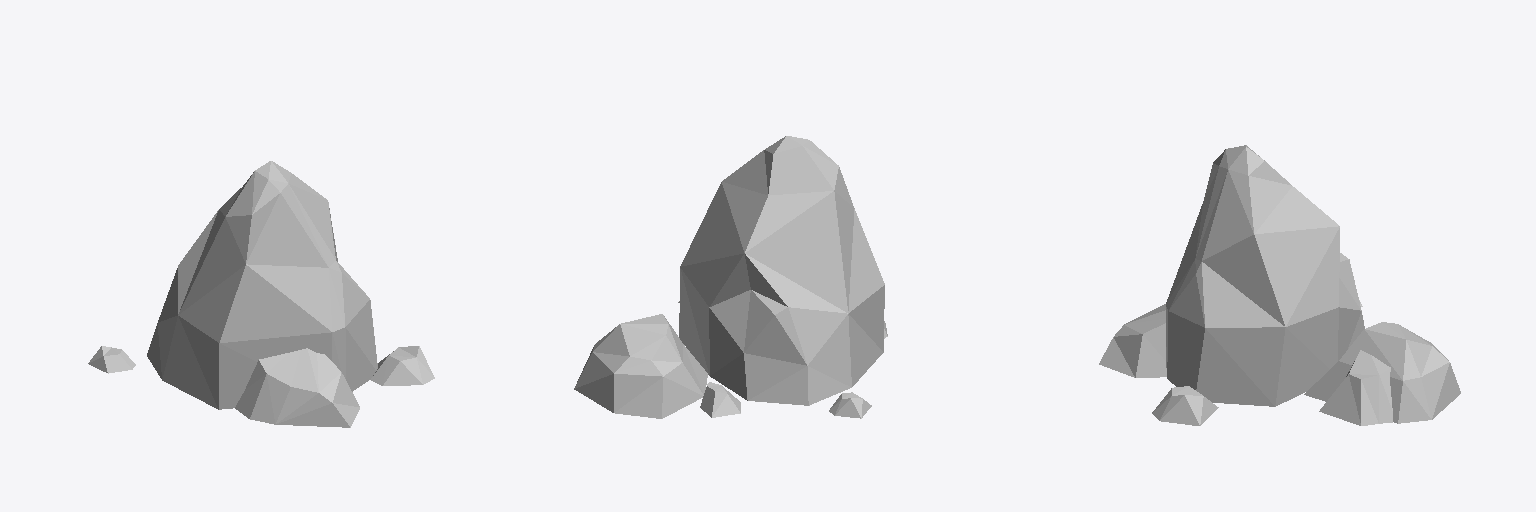
File: rocks2.obj
3 renders of one model, left to right at view 1: azimuth 30°, elevation 25°; view 2: azimuth 150°, elevation 25°; view 3: azimuth 270°, elevation 25°, orthographic.
Visible parts, largest first — view 1: Rocks02_Untitled.004; view 2: Rocks02_Untitled.004; view 3: Rocks02_Untitled.004.
Part boxes in pixels (x1,y1,x2,y2): Rocks02_Untitled.004: (88, 161, 434, 427); Rocks02_Untitled.004: (574, 136, 887, 418); Rocks02_Untitled.004: (1099, 145, 1460, 425).
Size of the model in its own units: 4.43 by 3.5 by 5.31.